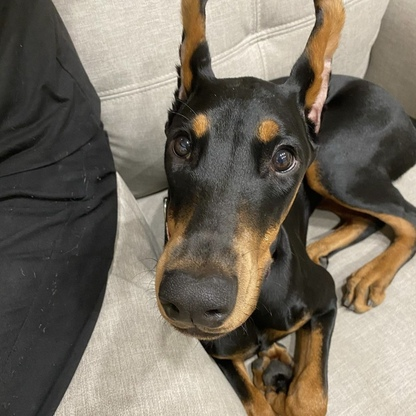doberman: (147, 3, 416, 411)
